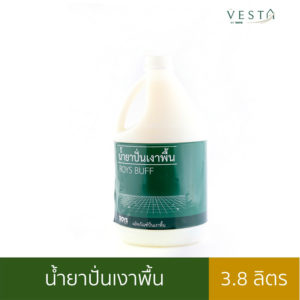Cleaning_solution: (108, 50, 217, 252)
